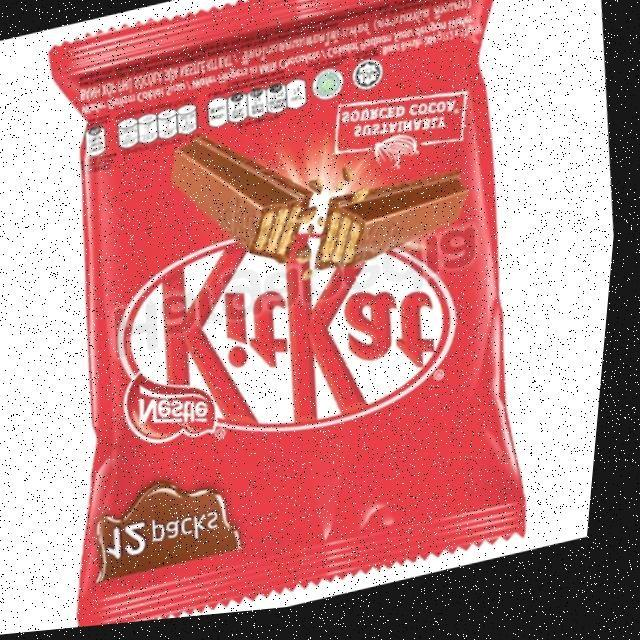kitkat_chocolate: (80, 38, 508, 577)
